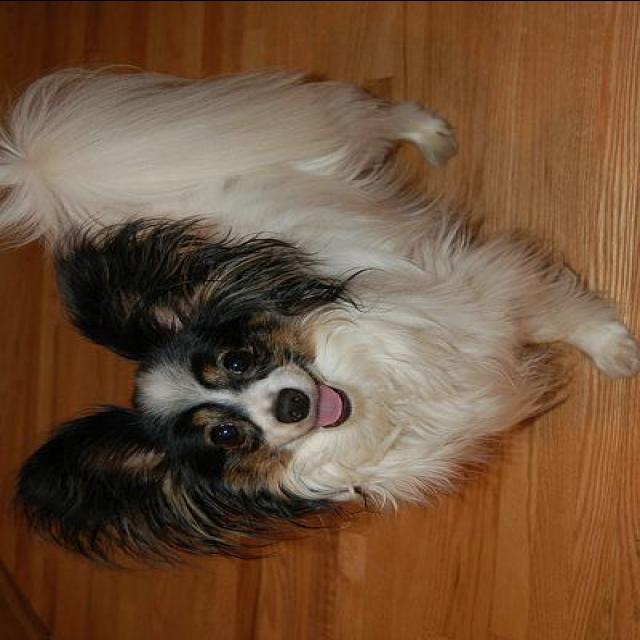papillon: (0, 62, 638, 573)
